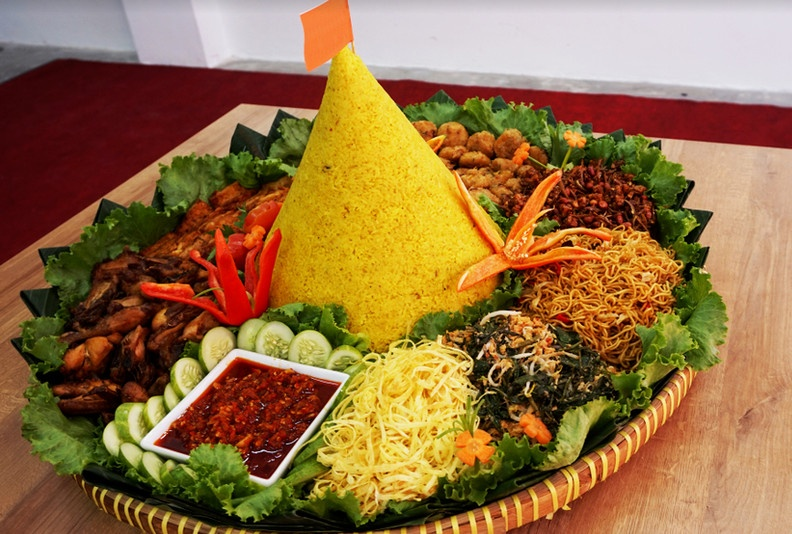tumpeng: (247, 18, 508, 328)
